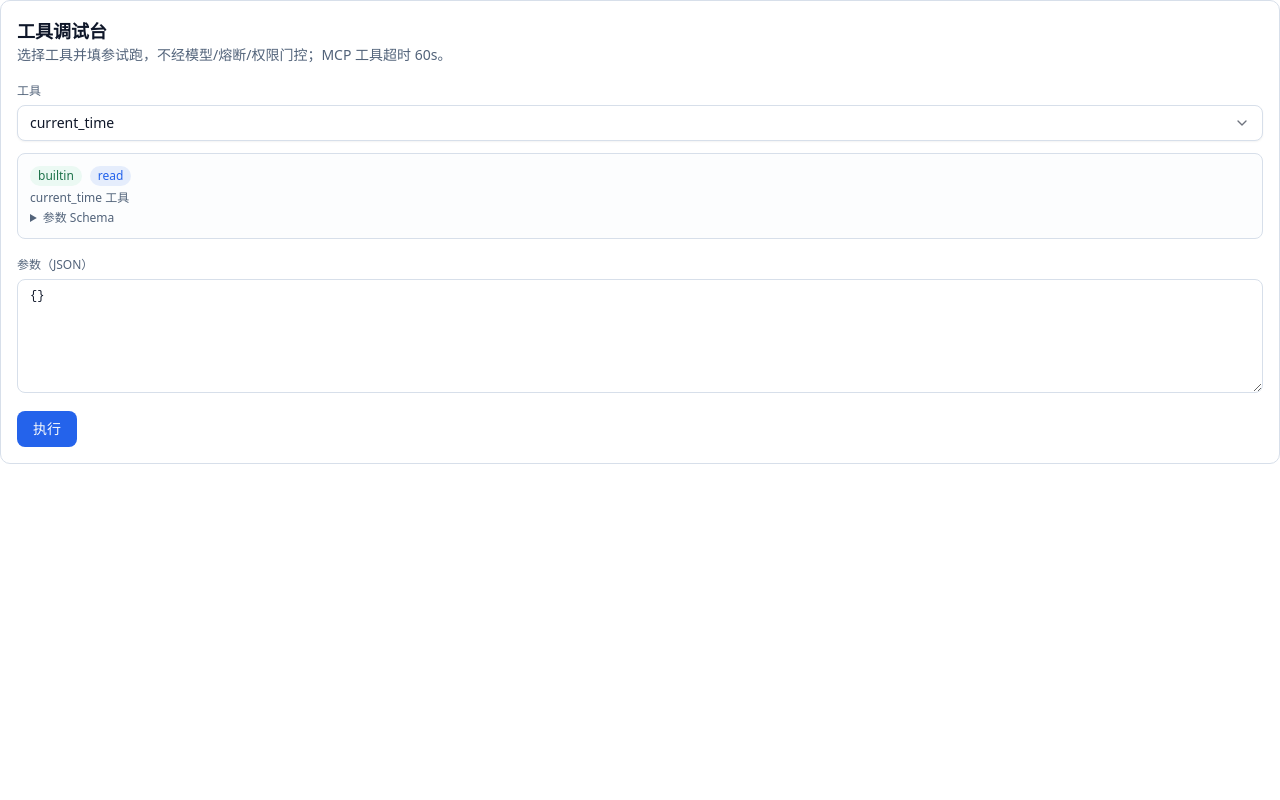
工具调试台面板（v0.6 M4） › 列表加载后默认选第一个工具；执行后展示结果
Check: the dropdown with test id "tool-debug-select" reads "current_time", box [17,105,1263,141]
Check: the text "builtin" is shown, box [30,166,82,186]
Click the button with test id "tool-debug-execute". click: (47, 429)
box: [17,411,77,447]
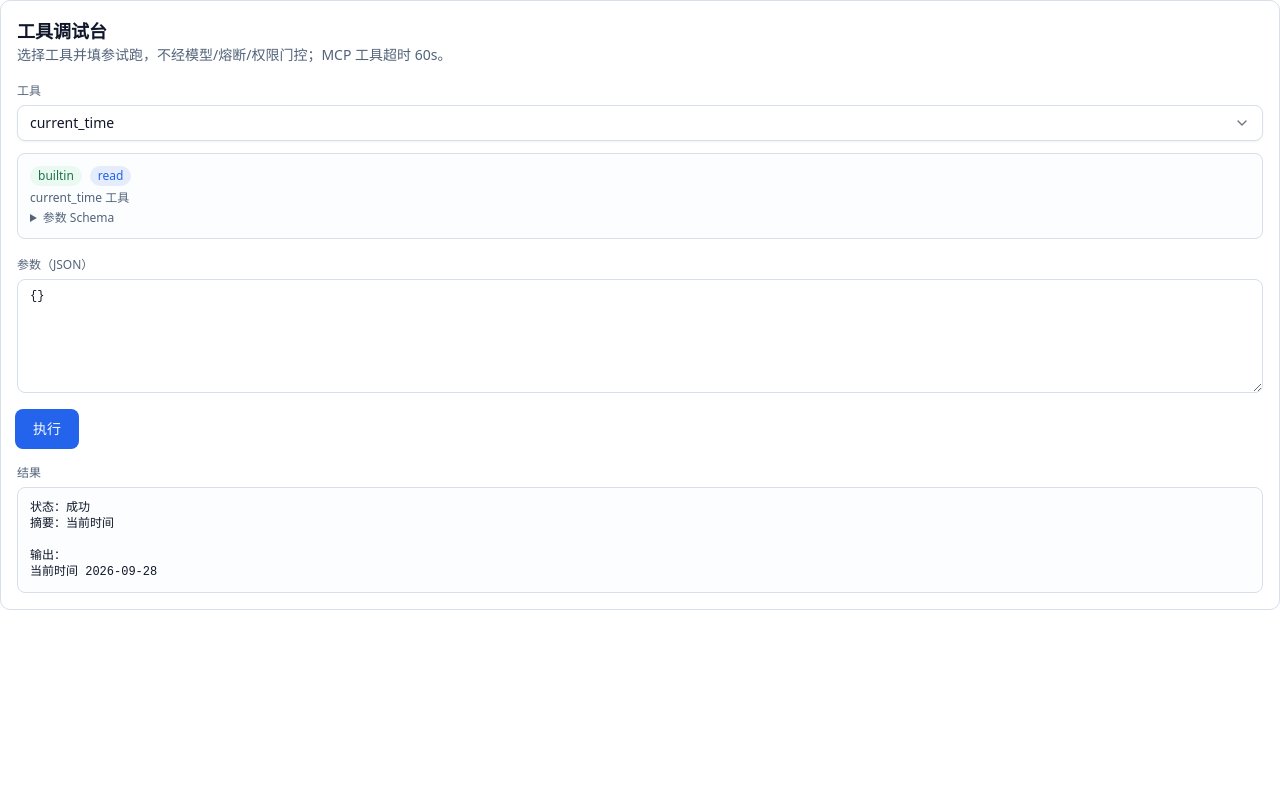
Check: the text with test id "tool-debug-result" shows "成功", box [30,501,157,579]
Check: the text with test id "tool-debug-result" shows "当前时间 2026-09-28", box [30,501,157,579]
